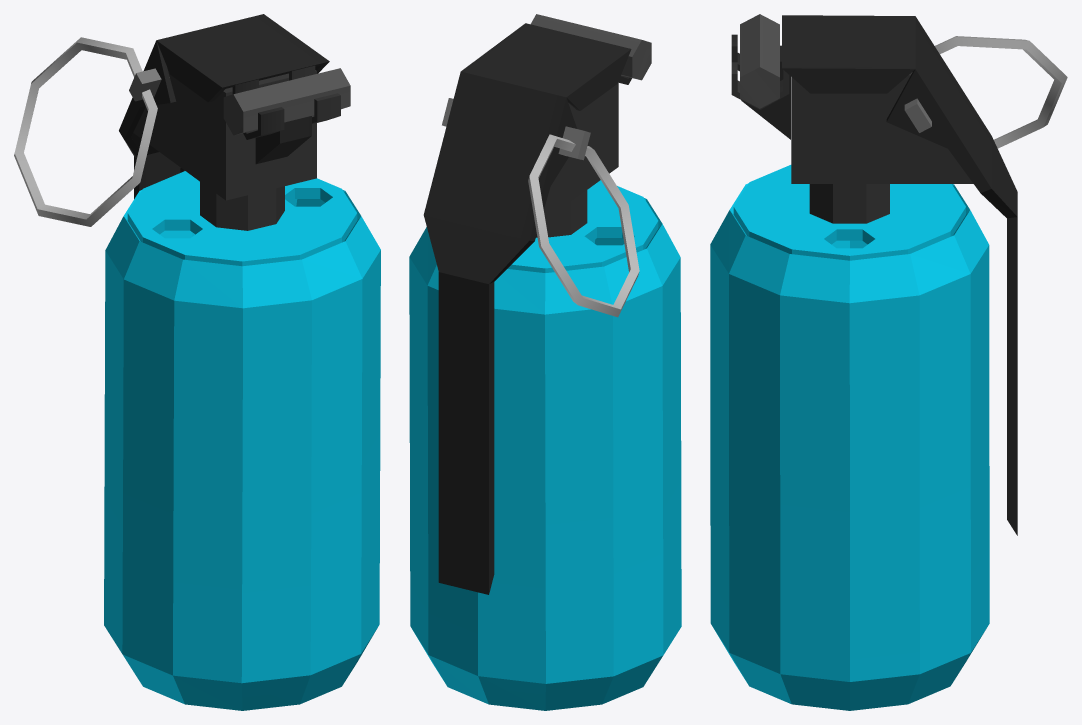
The model's file is Gas3.FBX.
The picture shows the model from 3 angles, left to right: view 1: azimuth 30°, elevation 25°; view 2: azimuth 150°, elevation 25°; view 3: azimuth 270°, elevation 25°; orthographic projection. The views are drawn at different scales.
Visible parts, largest first — view 1: Cylinder029, Sphere017, Object044, Object045; view 2: Cylinder029, Sphere017, Object044, Object045; view 3: Cylinder029, Sphere017, Object044, Object045.
Boxes of the visible parts, <box> form: Cylinder029: <box>104,171,380,710</box>; Sphere017: <box>119,14,350,230</box>; Object044: <box>14,37,157,226</box>; Object045: <box>129,68,161,101</box>; Cylinder029: <box>409,180,681,710</box>; Sphere017: <box>423,14,651,594</box>; Object044: <box>528,134,639,317</box>; Object045: <box>442,98,590,160</box>; Cylinder029: <box>710,165,989,710</box>; Sphere017: <box>731,14,1017,535</box>; Object044: <box>935,36,1067,148</box>; Object045: <box>904,98,931,132</box>.
Size of the model in its own units: 0.1348 by 0.3033 by 0.1582.
